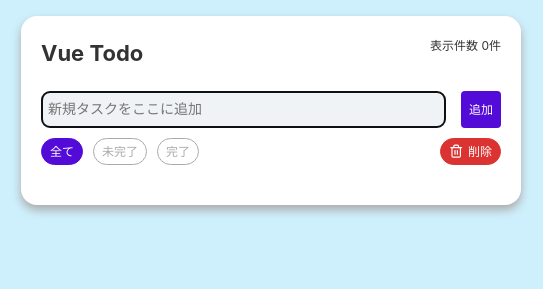
Test: TodoTemplate › adds a new todo via the form
Type "new task" into the field named "input-task". click: (244,109)
box: [41, 91, 446, 128]
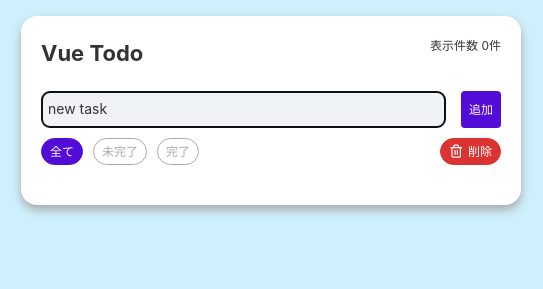
Click the button with aria-label "add-task". click: (481,109)
box: [461, 91, 501, 128]
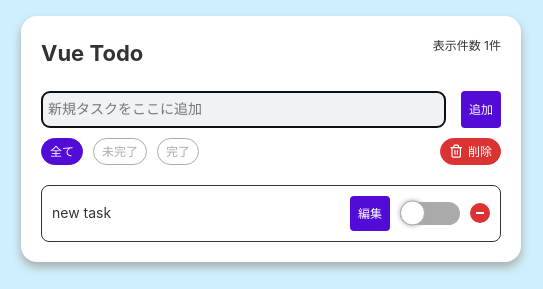
Expected: the text "new task" is shown, [52, 204, 111, 221]
